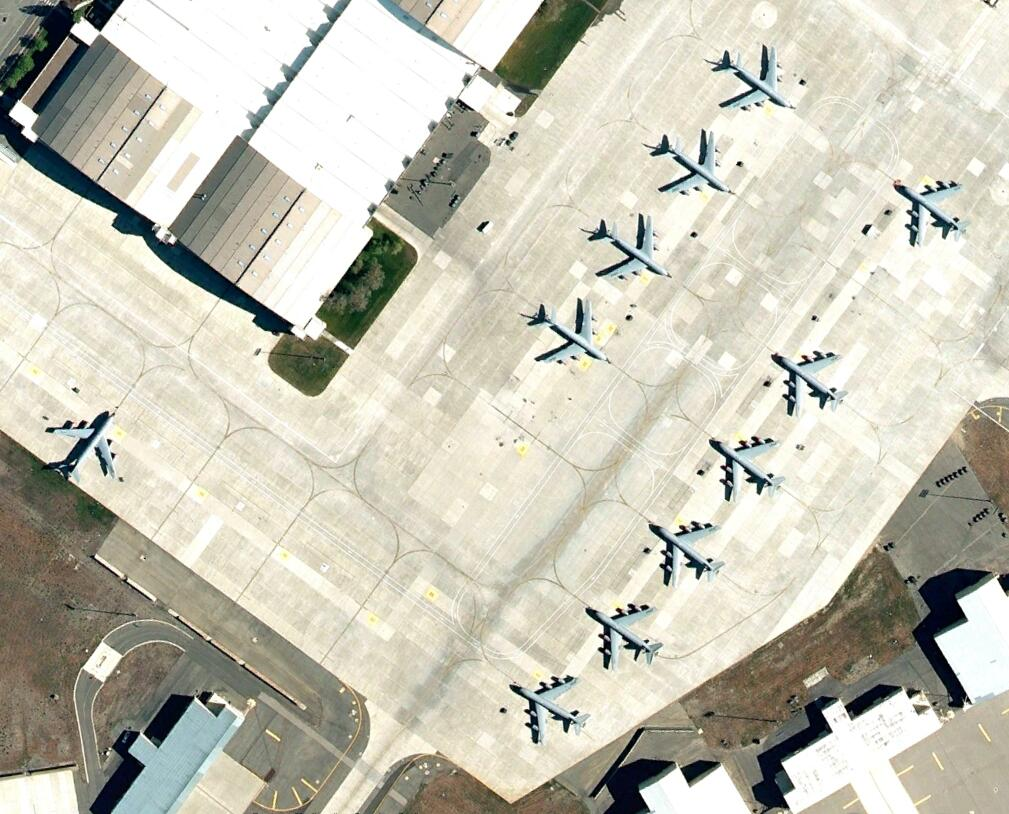A14: (511, 674, 592, 747), (531, 298, 610, 371), (715, 42, 795, 113), (47, 409, 120, 485), (586, 606, 666, 672), (598, 212, 670, 283), (661, 130, 734, 198), (710, 436, 785, 502), (651, 521, 726, 587), (895, 180, 968, 247), (773, 351, 848, 414)
